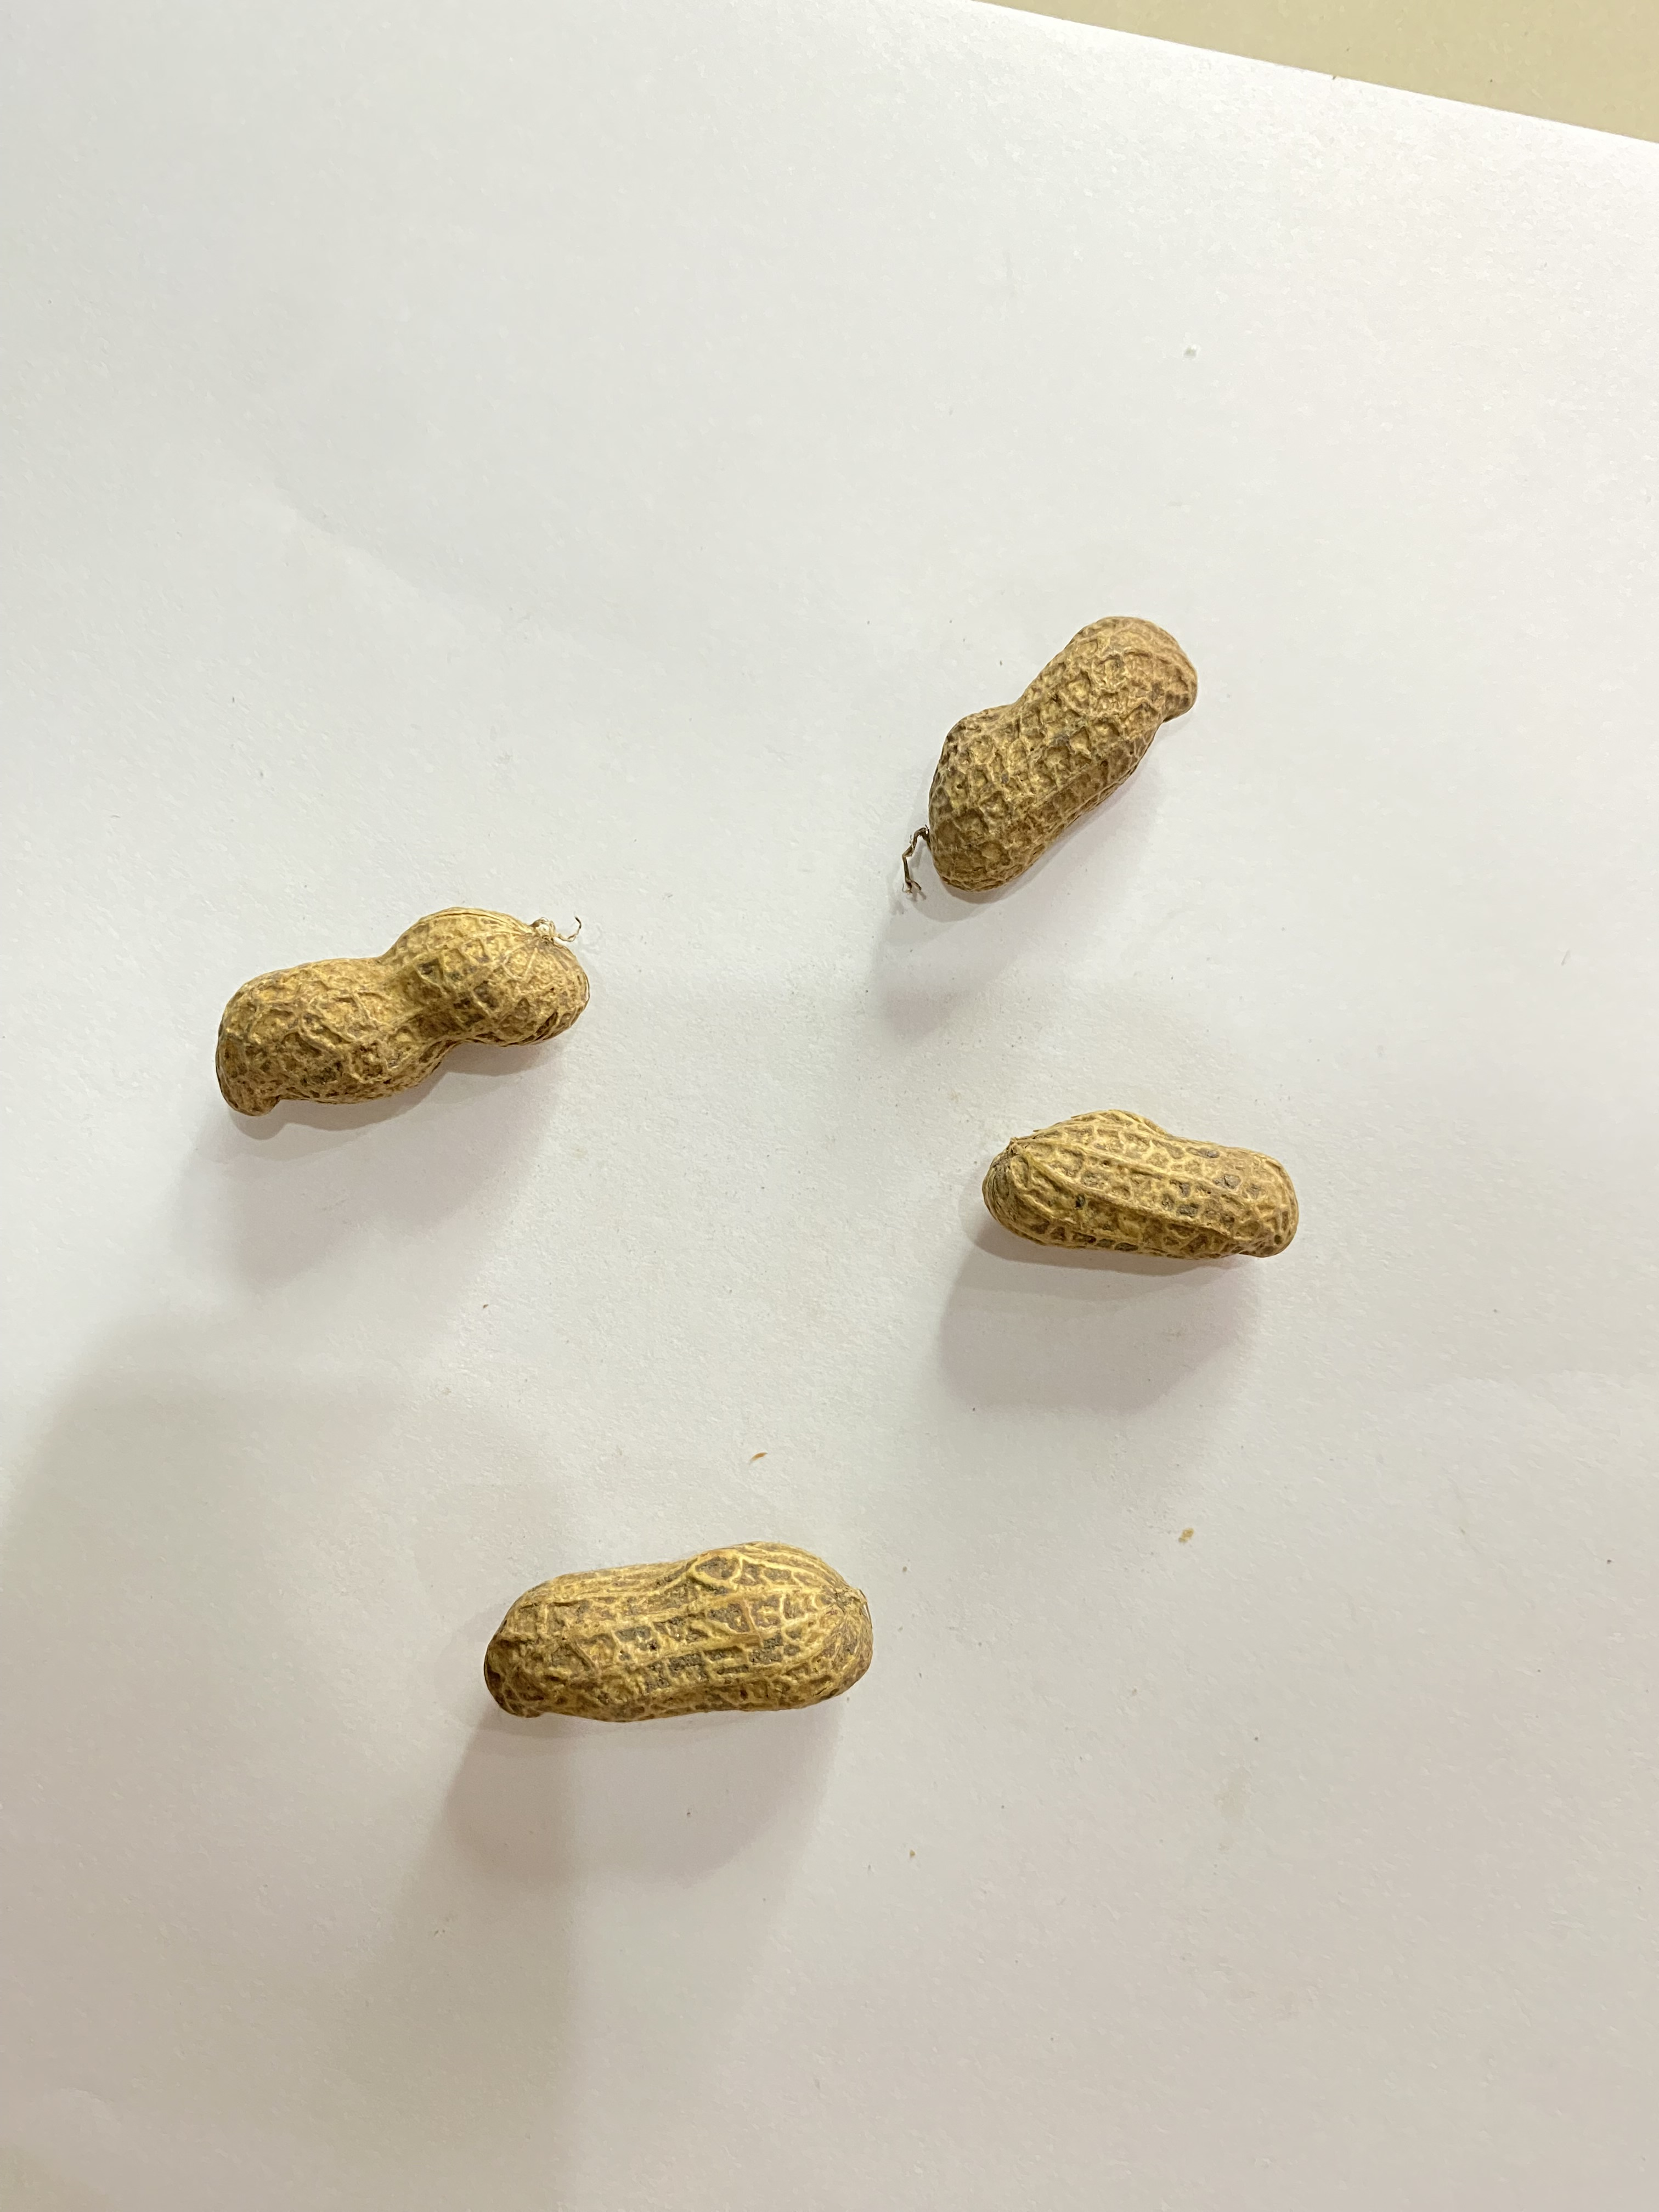kacang1: (972, 1089, 1293, 1305)
kacang2: (882, 585, 1211, 928), (145, 900, 615, 1120), (471, 1541, 903, 1757)
